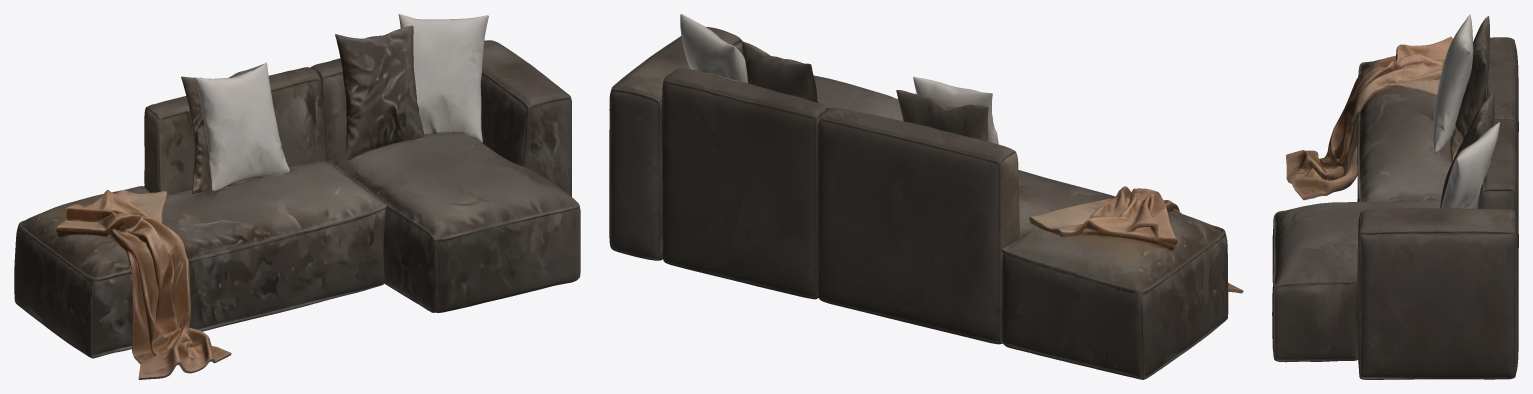
Rendered from sofa-edit-low.glb.
3 views of the same model, side by side, from view 1: azimuth 30°, elevation 25°; view 2: azimuth 150°, elevation 25°; view 3: azimuth 270°, elevation 25° (orthographic). The views are drawn at different scales.
Parts seen in each view (by area): view 1: model; view 2: model; view 3: model.
Boxes of the visible parts, x1,y1,x2,y2 form: model: [14, 14, 580, 379]; model: [609, 14, 1243, 379]; model: [1272, 14, 1518, 379].
Size of the model in its own units: 2.1 by 0.8499 by 0.8999.
1 material, 1 textured.
